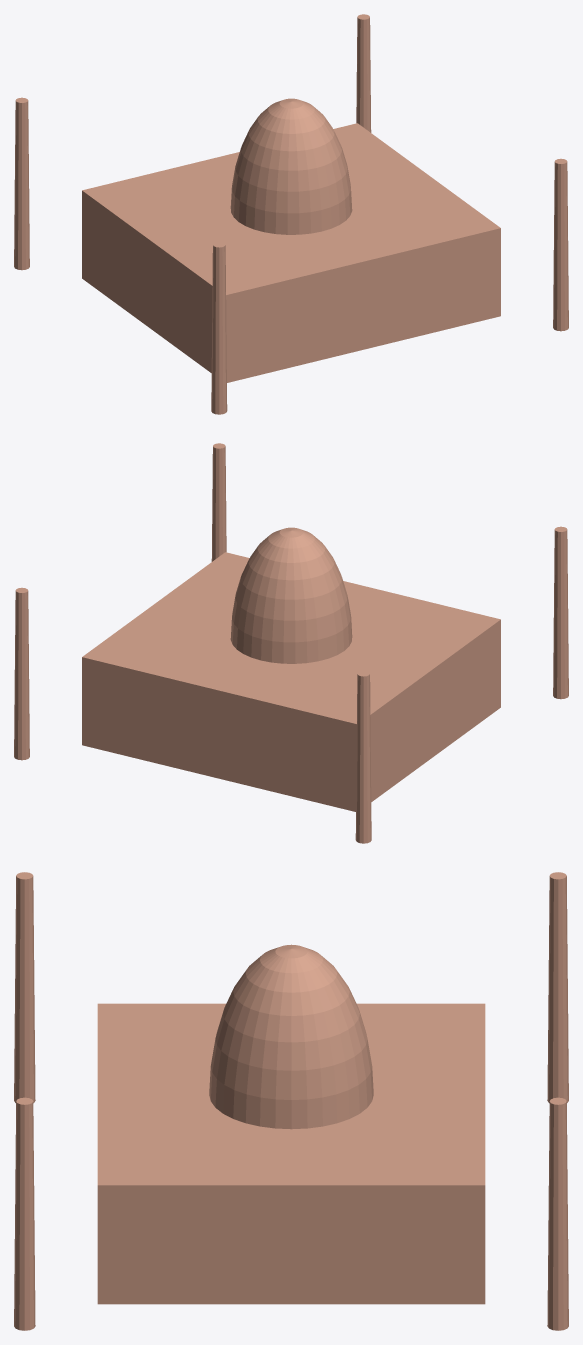
Rendered from place-hagia-sophia.glb.
3 views of the same model, one above another, from view 1: azimuth 30°, elevation 25°; view 2: azimuth 150°, elevation 25°; view 3: azimuth 270°, elevation 25° (orthographic). The views are drawn at different scales.
Parts seen in each view (by area): view 1: place-hagia-sophia; view 2: place-hagia-sophia; view 3: place-hagia-sophia.
Boxes of the visible parts, x1,y1,x2,y2 form: place-hagia-sophia: [14, 14, 568, 414]; place-hagia-sophia: [14, 443, 568, 843]; place-hagia-sophia: [14, 872, 568, 1330].
Bounding box in the file's own units: 104 × 55 × 104.
